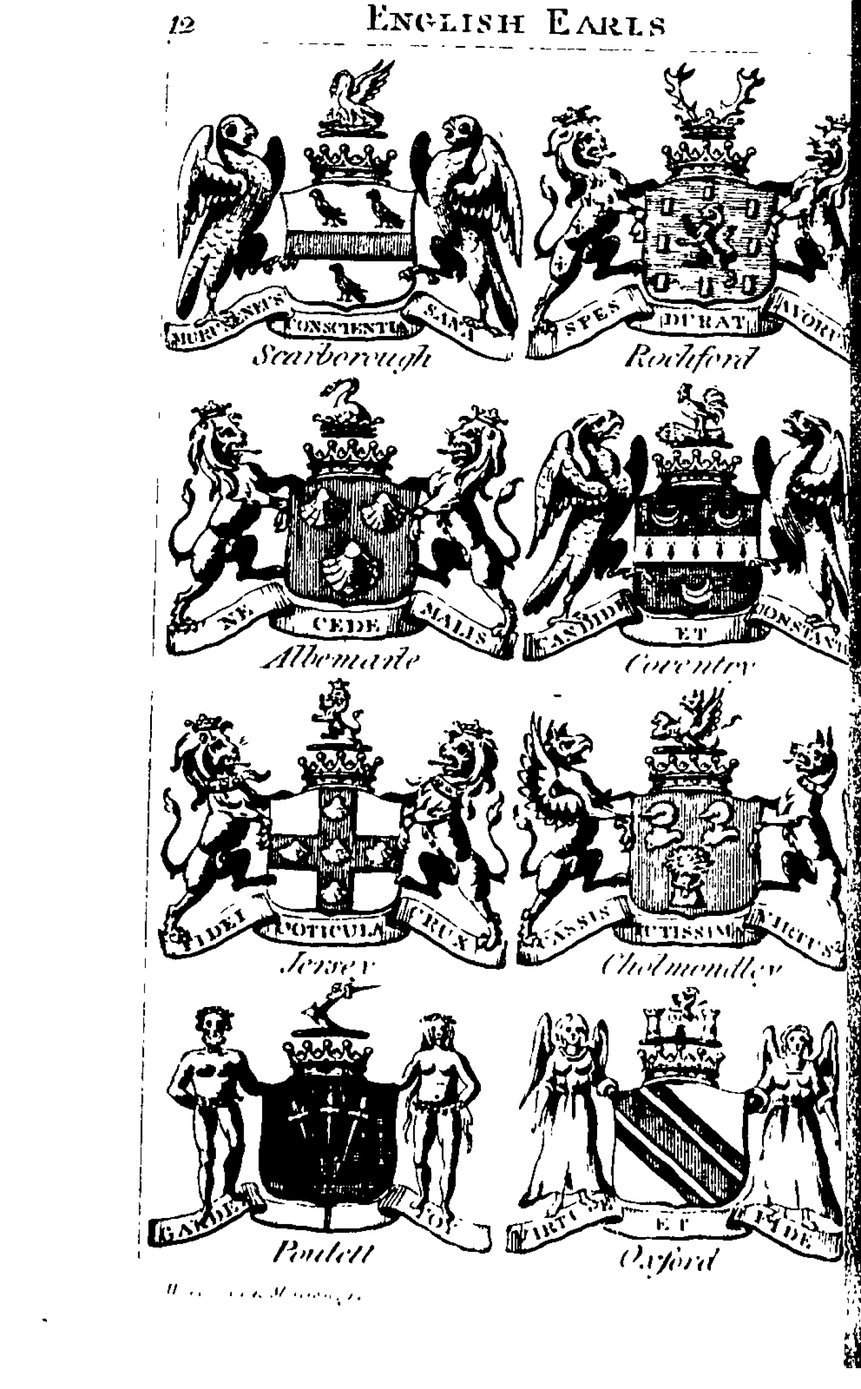coat_of_arms: (173, 54, 522, 380), (171, 378, 525, 682), (510, 685, 861, 988), (536, 49, 861, 375), (167, 679, 512, 980), (528, 375, 853, 683), (522, 993, 857, 1291), (166, 980, 497, 1269)
